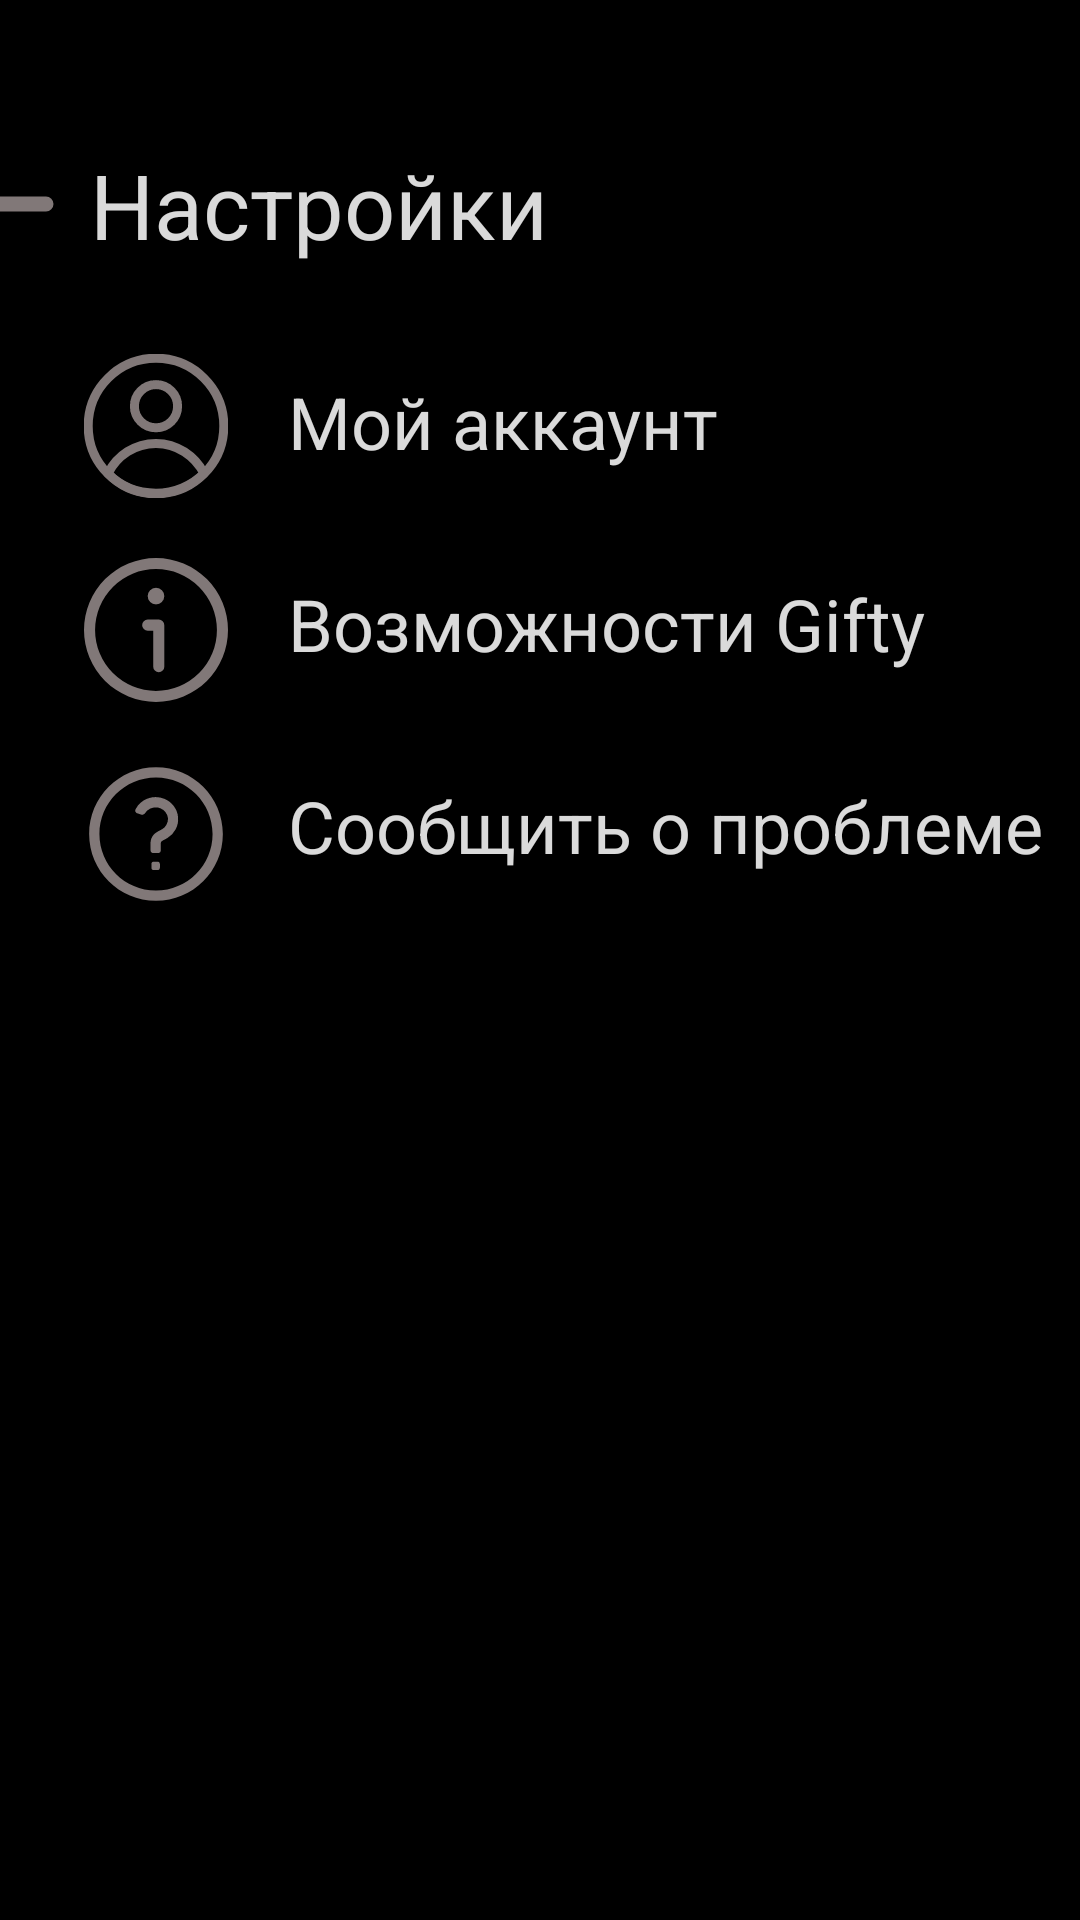

Screen size 1080 × 1920. Icon name, then its box in pixels as [x1, y1, x2, y2]:
info: [84, 558, 228, 702]
myaccount: [84, 354, 228, 498]
problems: [89, 767, 223, 901]
